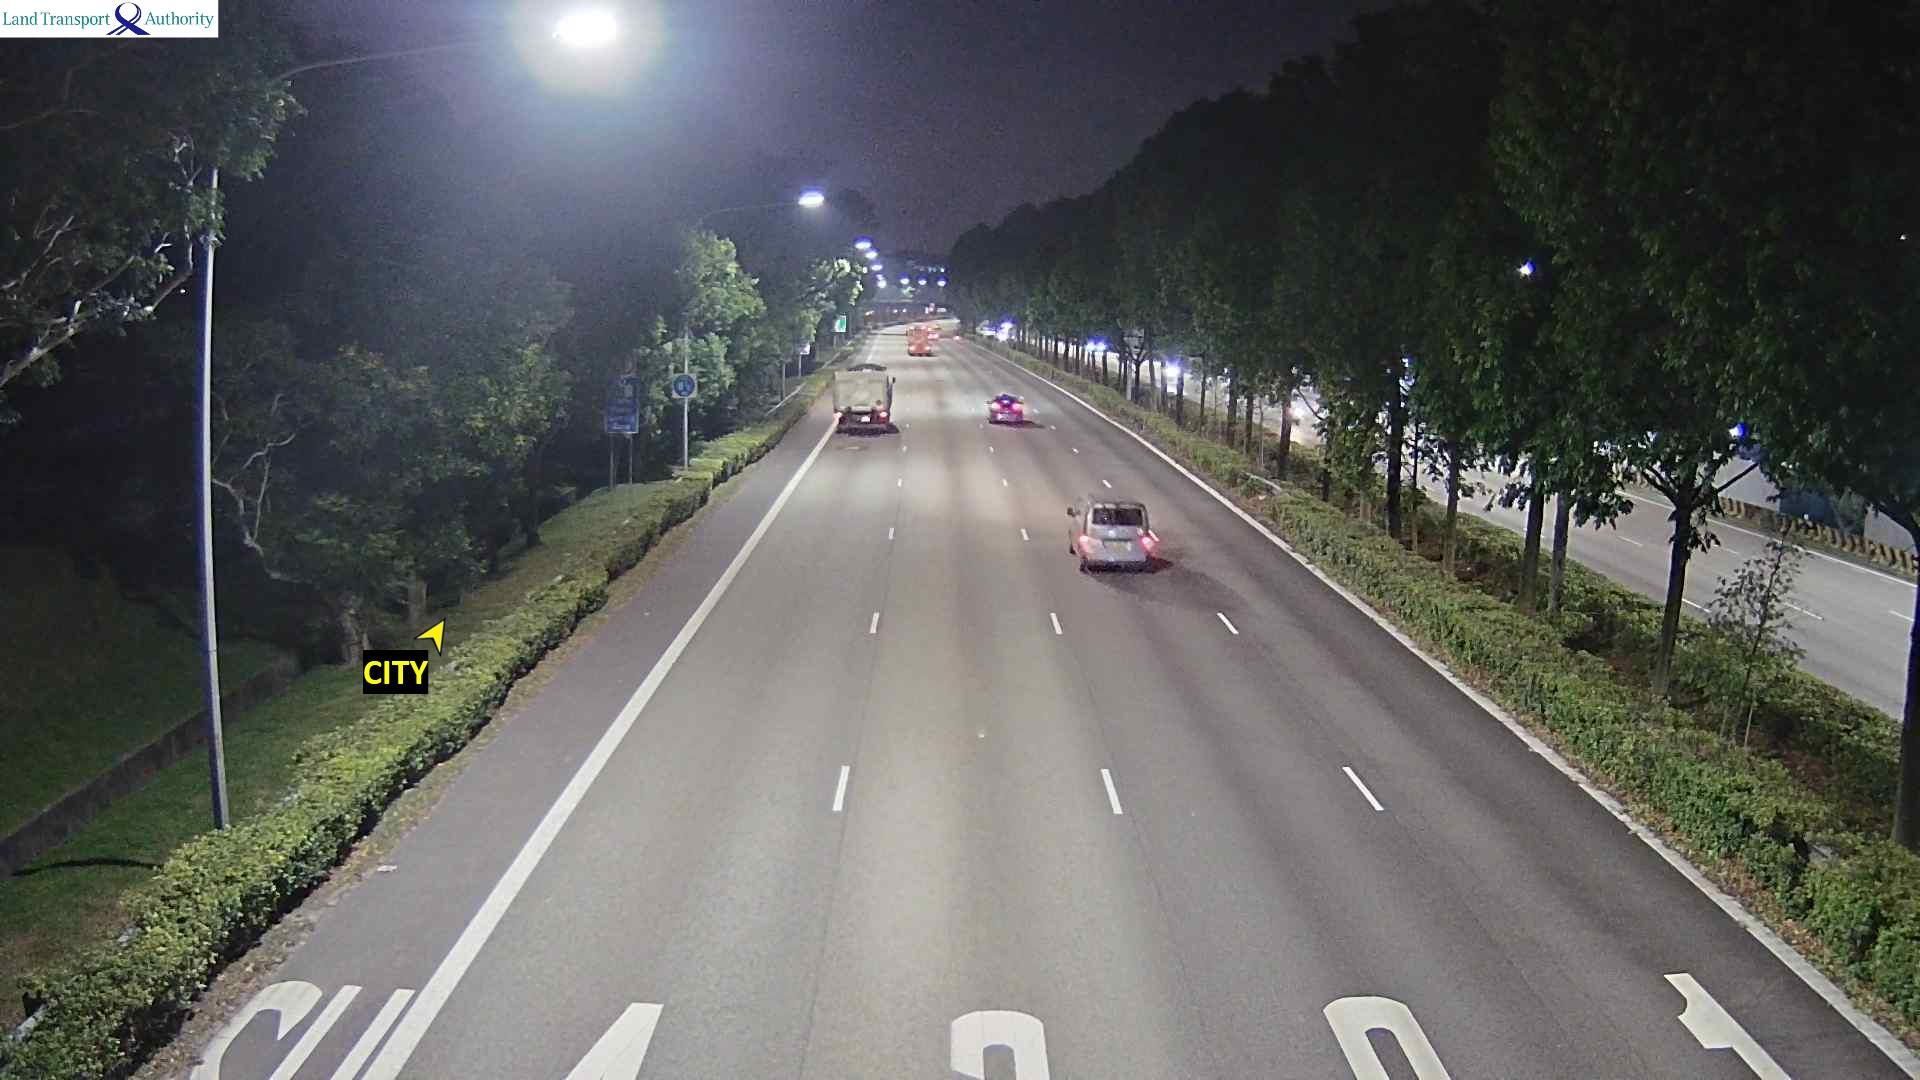cars: (1064, 494, 1160, 572), (985, 391, 1024, 424), (921, 321, 941, 340)
trucks: (829, 366, 894, 433), (905, 324, 933, 355)
